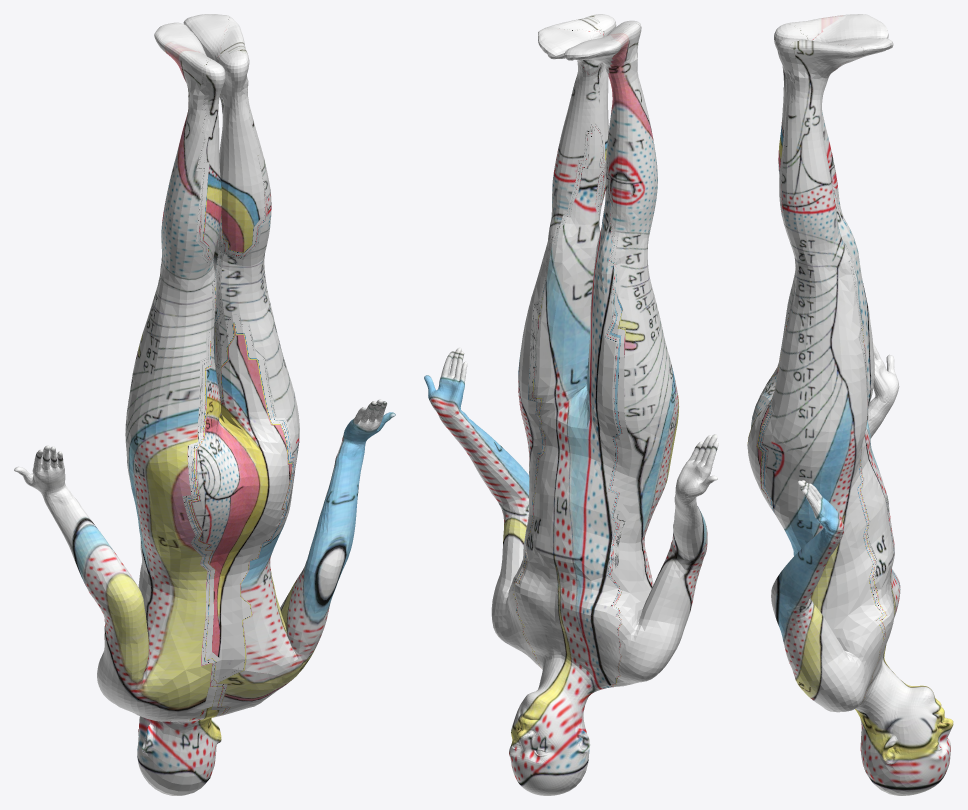
The model's file is body_dermatome_textured.obj.
3 views of the same model, side by side, from view 1: azimuth 30°, elevation 25°; view 2: azimuth 150°, elevation 25°; view 3: azimuth 270°, elevation 25° (orthographic). The views are drawn at different scales.
Visible parts, largest first — view 1: Body; view 2: Body; view 3: Body.
Part boxes in pixels (box(x1,y1,x2,y2)): Body: box(14, 14, 395, 795); Body: box(424, 14, 718, 795); Body: box(747, 14, 953, 795).
Bounding box in the file's own units: 0.8296 × 1.8 × 0.4412.
1 material, 1 textured.
